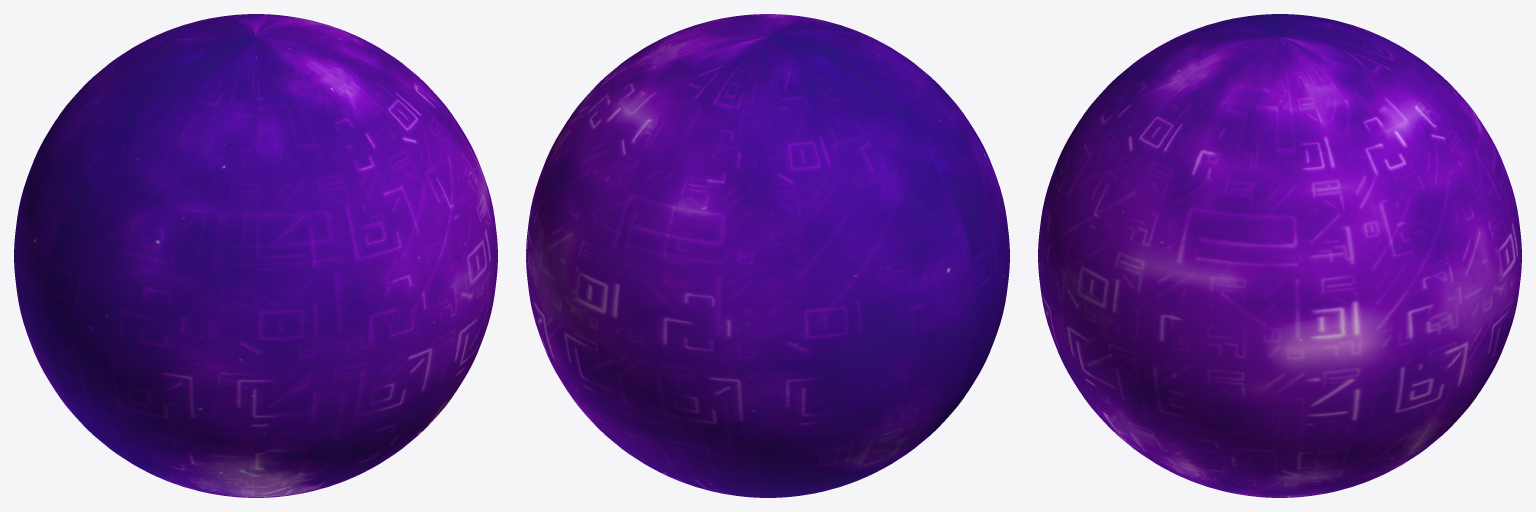
Rendered from the_last_reality_-_cube_planet_-_8k.glb.
The picture shows the model from 3 angles, left to right: view 1: azimuth 30°, elevation 25°; view 2: azimuth 150°, elevation 25°; view 3: azimuth 270°, elevation 25°; orthographic projection.
Visible parts, largest first — view 1: atmosphere_Material_0; view 2: atmosphere_Material_0; view 3: atmosphere_Material_0.
Boxes of the visible parts, bbox=[...] form: atmosphere_Material_0: bbox=[14, 14, 497, 497]; atmosphere_Material_0: bbox=[526, 14, 1009, 497]; atmosphere_Material_0: bbox=[1038, 14, 1521, 497].
Bounding box in the file's own units: 3 × 3 × 3.
2 materials, 1 textured.
